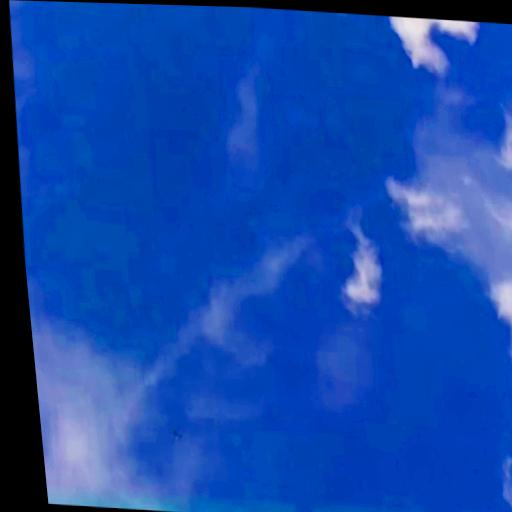drones: (166, 423, 186, 449)
